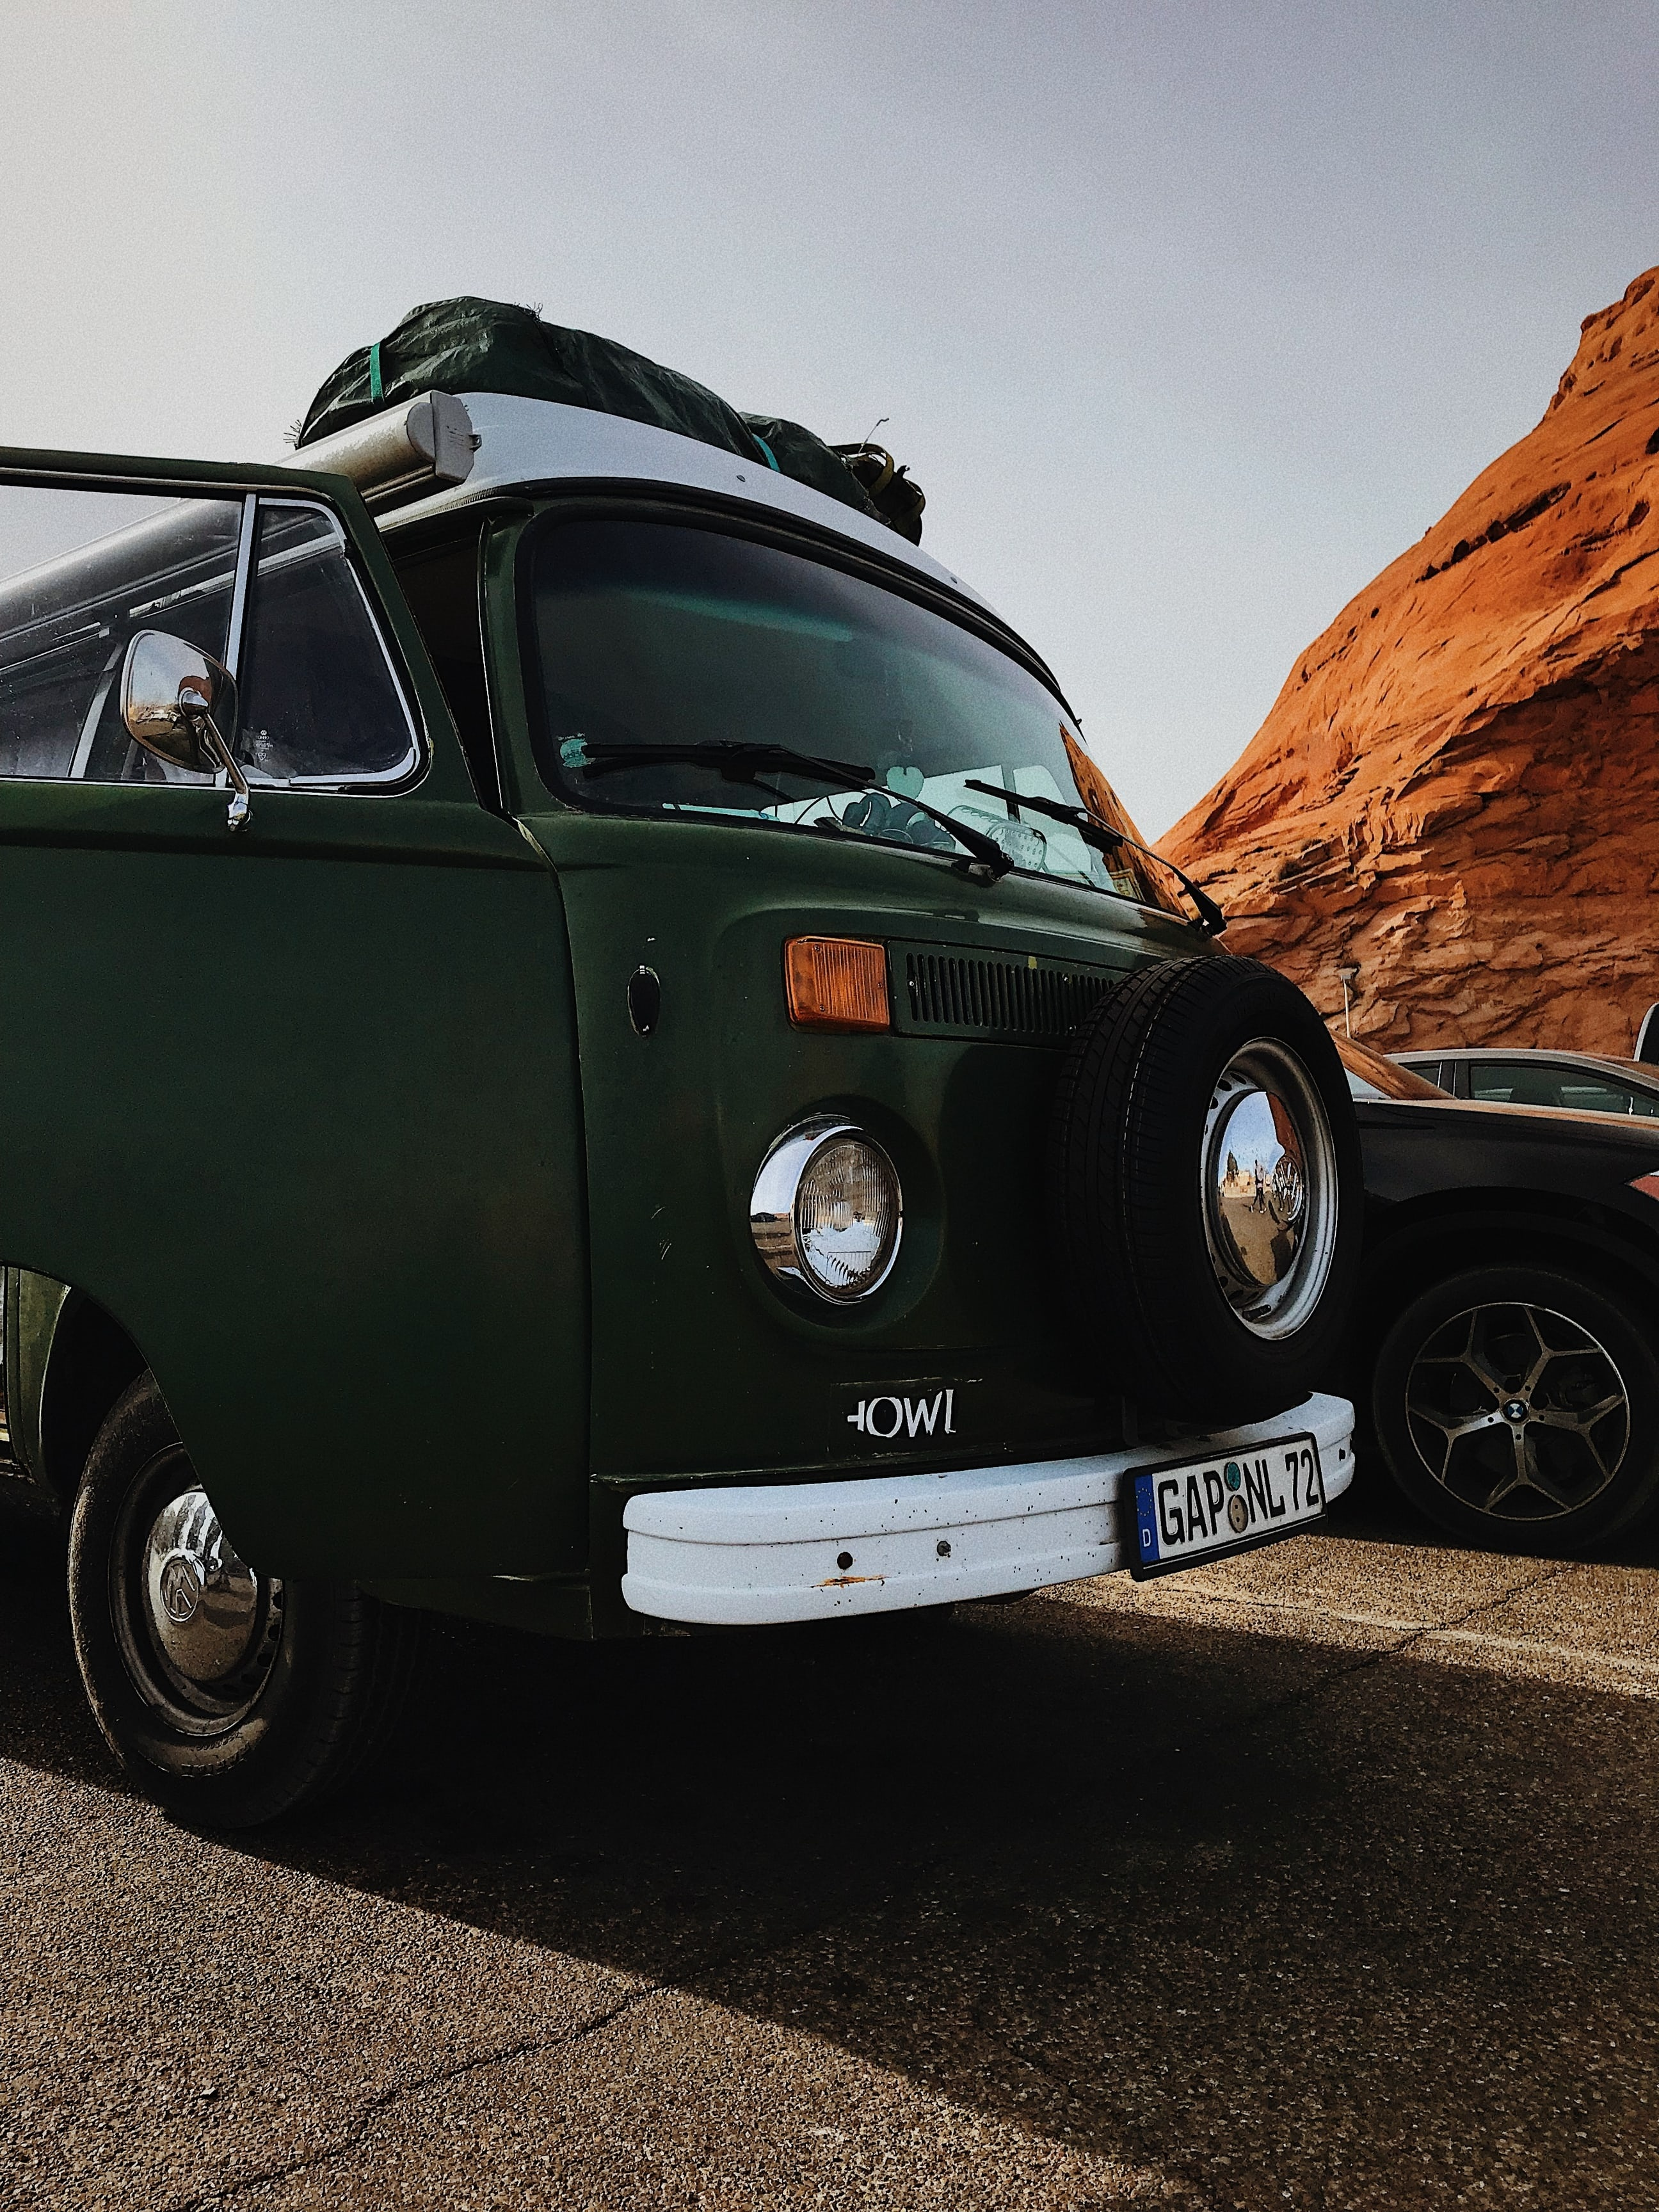plaka: (1129, 1429, 1331, 1580)
